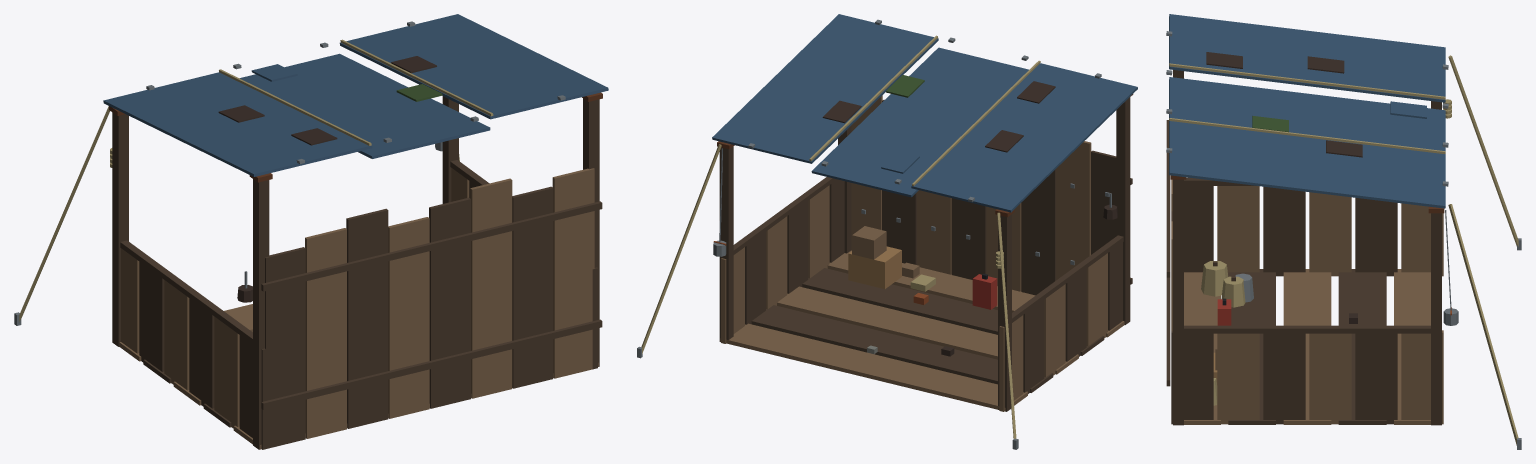
The model's file is safehouse_shack.glb.
3 views of the same model, side by side, from view 1: azimuth 30°, elevation 25°; view 2: azimuth 150°, elevation 25°; view 3: azimuth 270°, elevation 25° (orthographic). The views are drawn at different scales.
Visible parts, largest first — view 1: safehouse_shack; view 2: safehouse_shack; view 3: safehouse_shack.
Part boxes in pixels (left/top/right/bottom): safehouse_shack: left=14, top=14, right=608, bottom=449; safehouse_shack: left=637, top=14, right=1137, bottom=449; safehouse_shack: left=1166, top=14, right=1521, bottom=449.
Size of what is drawn, in the model's own units: 5.18 by 3.1 by 3.86.
Materials: 3 (3 with a texture image).
